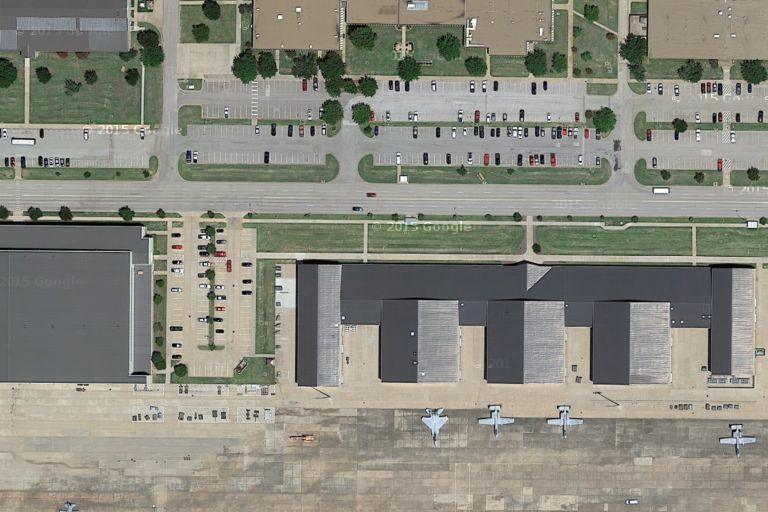A-10: (712, 419, 762, 458), (543, 401, 590, 439), (474, 402, 517, 439)
F/A-18: (417, 407, 454, 445)
